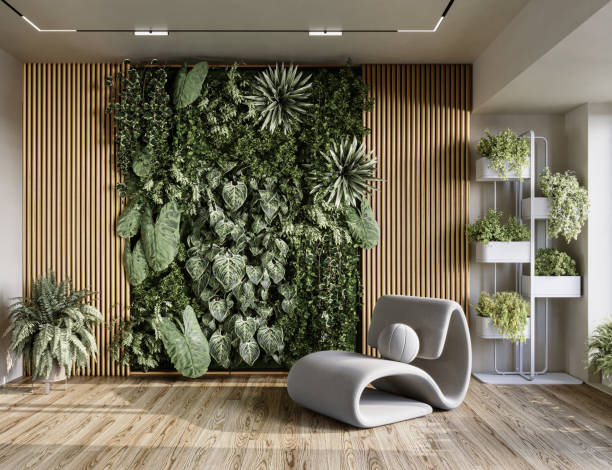large plant: (1, 272, 107, 387)
small plant: (525, 167, 588, 240), (467, 206, 532, 261), (470, 127, 532, 182), (476, 285, 532, 342), (525, 248, 585, 300)
sofa: (284, 293, 474, 430)
